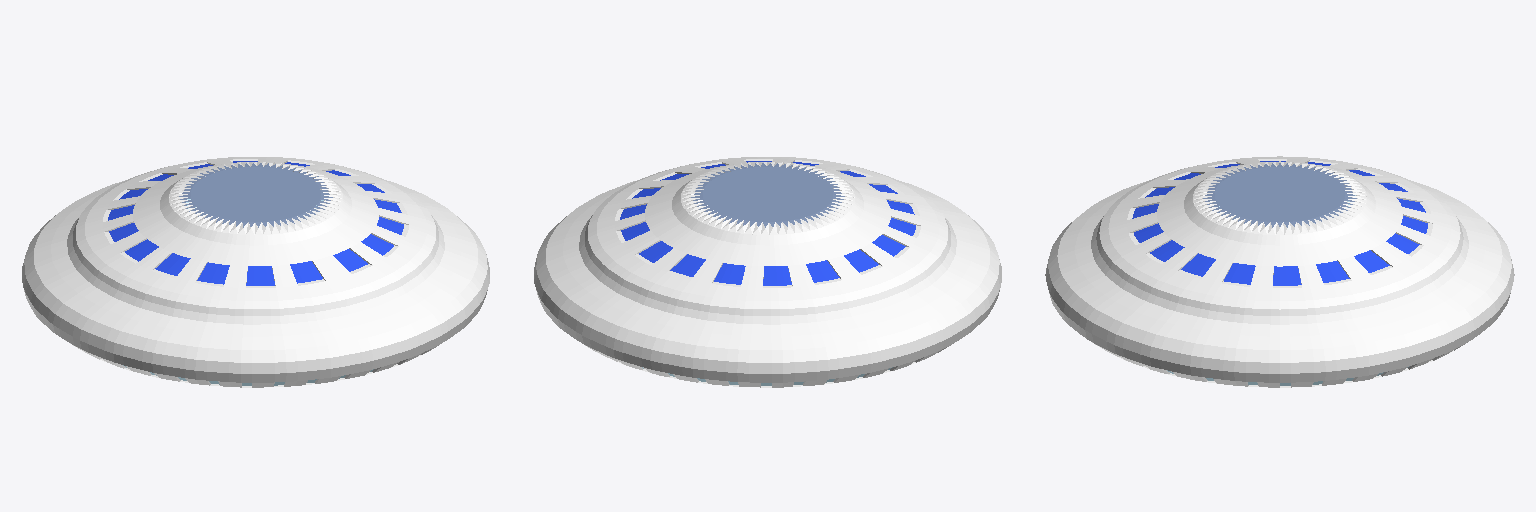
Rendered from UFO.obj.
3 views of the same model, side by side, from view 1: azimuth 30°, elevation 25°; view 2: azimuth 150°, elevation 25°; view 3: azimuth 270°, elevation 25° (orthographic).
Parts seen in each view (by area): view 1: Circle, Circle.003, Circle.002; view 2: Circle, Circle.003, Circle.002; view 3: Circle, Circle.003, Circle.002.
Boxes of the visible parts, x1=… form: Circle: x1=22, y1=157, x2=489, y2=387; Circle.003: x1=179, y1=163, x2=332, y2=227; Circle.002: x1=108, y1=161, x2=403, y2=285; Circle: x1=534, y1=157, x2=1001, y2=387; Circle.003: x1=691, y1=163, x2=844, y2=227; Circle.002: x1=620, y1=161, x2=915, y2=285; Circle: x1=1045, y1=156, x2=1514, y2=387; Circle.003: x1=1203, y1=163, x2=1356, y2=227; Circle.002: x1=1132, y1=161, x2=1427, y2=285.
Size of the model in its own units: 8.84 by 2.56 by 8.84.